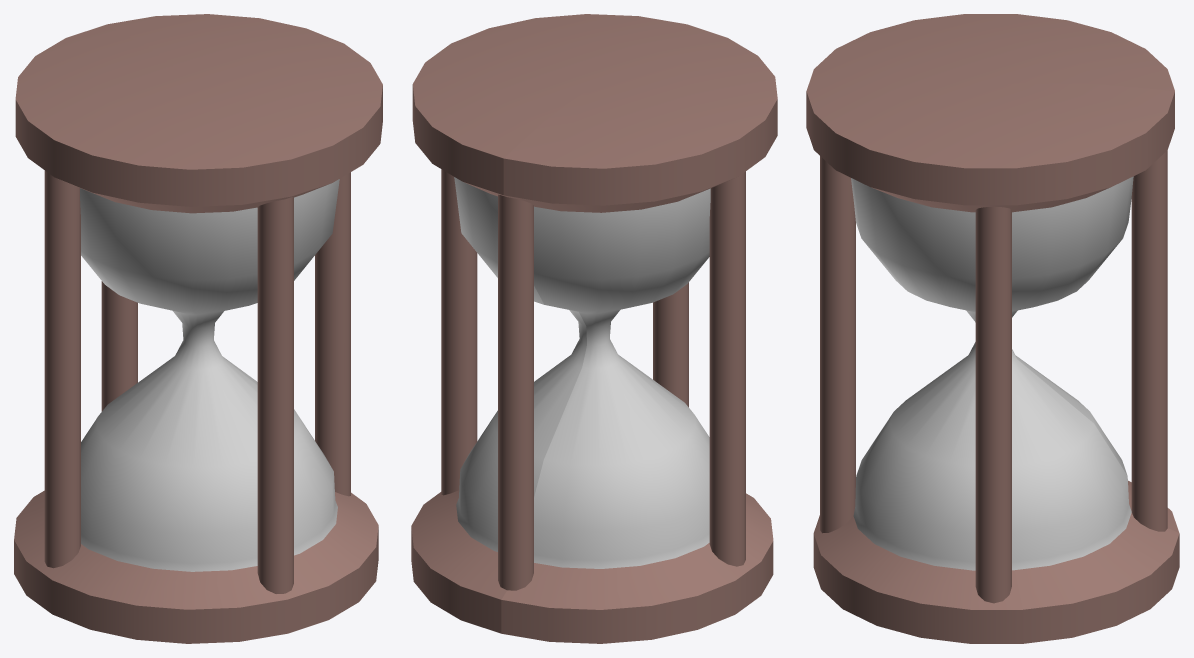
Rendered from HourGlassFbx.fbx.
3 views of the same model, side by side, from view 1: azimuth 30°, elevation 25°; view 2: azimuth 150°, elevation 25°; view 3: azimuth 270°, elevation 25° (orthographic).
Visible parts, largest first — view 1: hourGlassMesh; view 2: hourGlassMesh; view 3: hourGlassMesh.
Part boxes in pixels (box(x1,y1,x2,y2)): hourGlassMesh: box(14, 14, 382, 643); hourGlassMesh: box(411, 14, 777, 643); hourGlassMesh: box(806, 14, 1179, 643).
Size of the model in its own units: 8.28 by 12.28 by 8.46.
